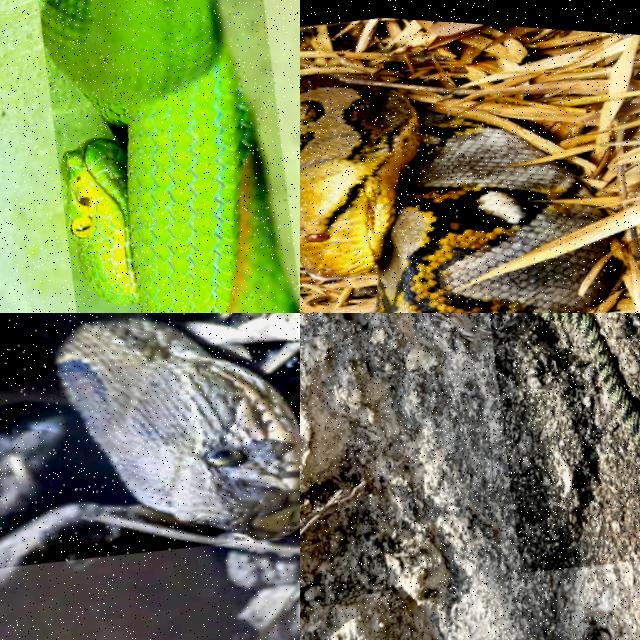Chrysopelea ornata: (532, 313, 639, 446)
Daboia siamensis: (0, 313, 299, 539)
Malayopython reticulatus: (300, 75, 611, 312)
Trimeresurus macrops: (42, 0, 299, 312)
